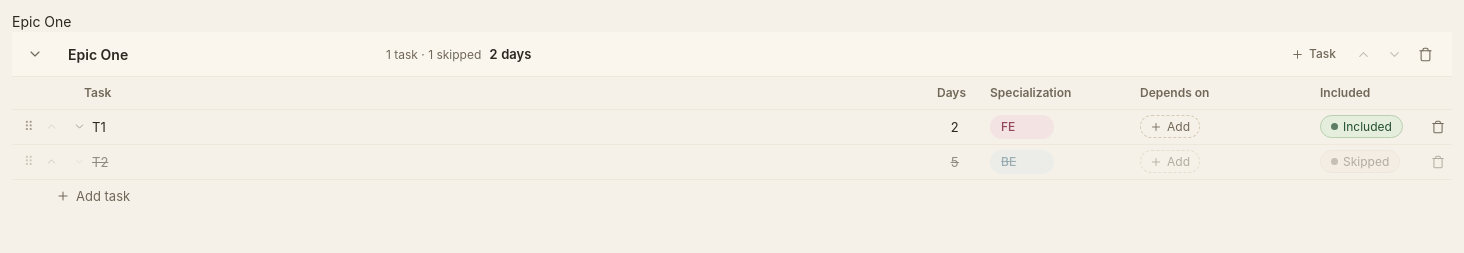
Scenario: EpicCard › adds a task from the epic header
Expected: the number of fields named "Task name" is 2, x1=84 y1=113 x2=902 y2=141; x1=84 y1=148 x2=902 y2=176
Click the button with aria-label "Add task to Epic One". click: (1314, 54)
box: x1=1280 y1=41 x2=1347 y2=67
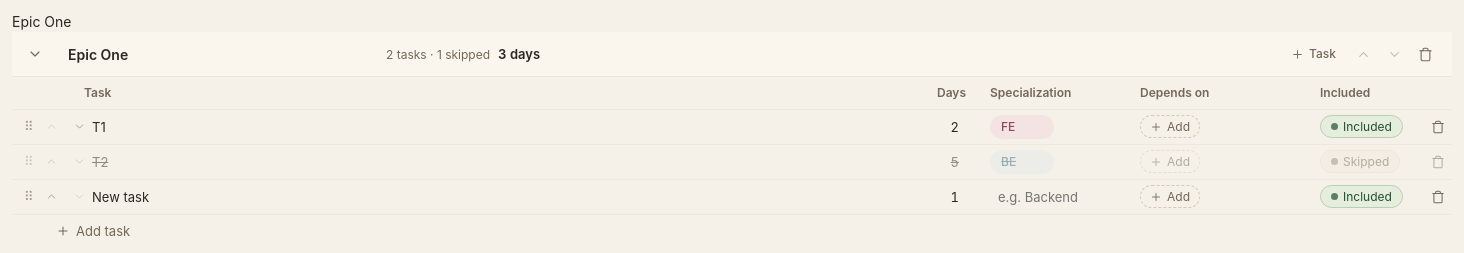
Expected: the number of fields named "Task name" is 3, x1=84 y1=113 x2=902 y2=141; x1=84 y1=148 x2=902 y2=176; x1=84 y1=183 x2=902 y2=211
